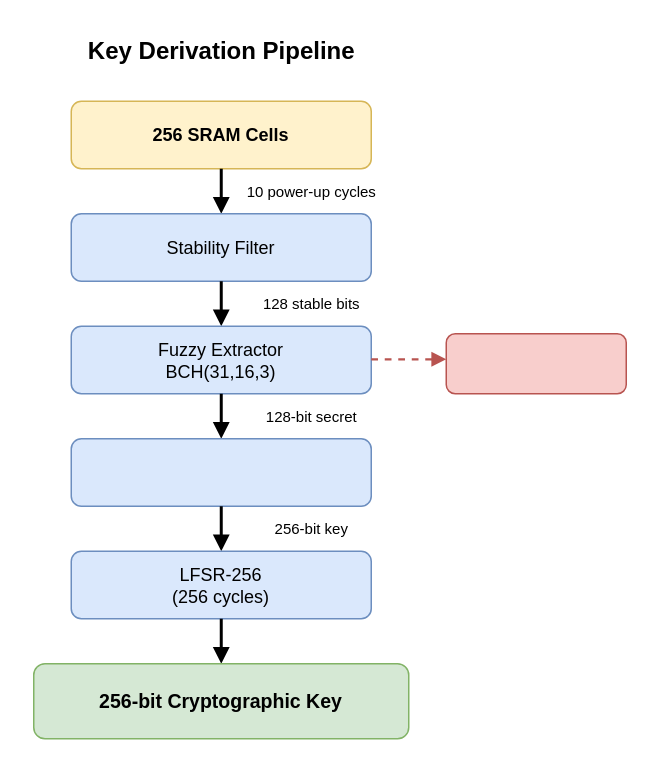
Image size: 653x765. Some labels were removed from this diagram. Each missing label, with the centre of its shape:
"helper_data[247:0] → card" goes at (535,363).
"SHA-256" goes at (220,471).
